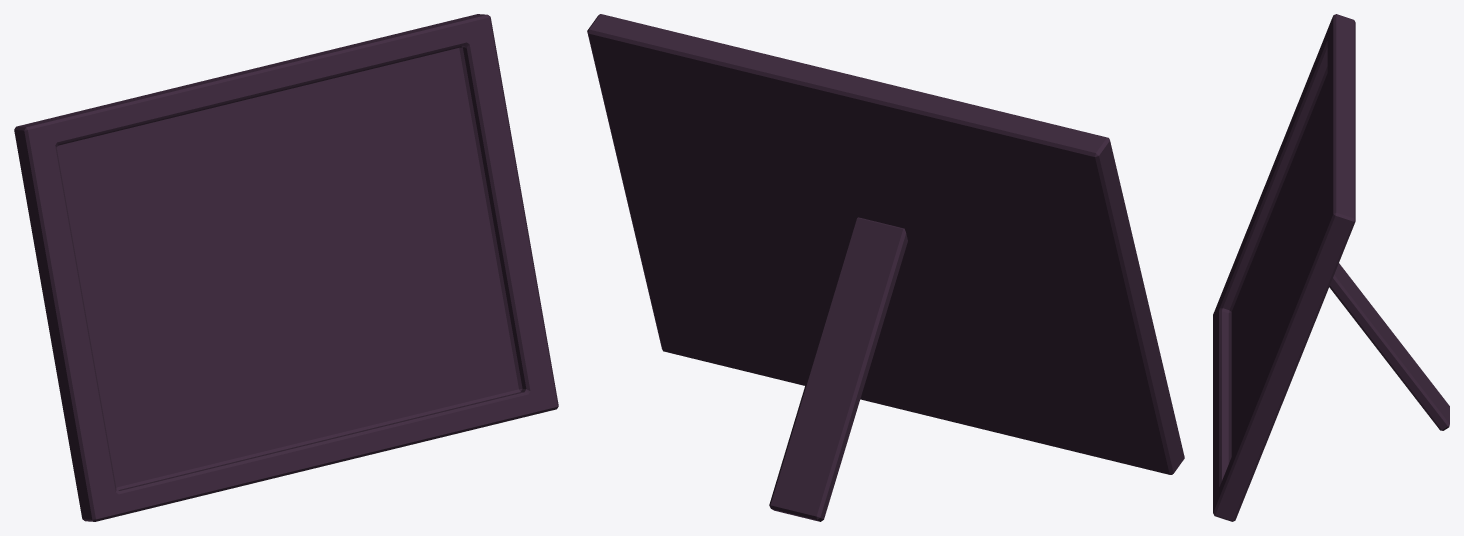
The model's file is PictureFrameDesk.fbx.
The picture shows the model from 3 angles, left to right: view 1: azimuth 30°, elevation 25°; view 2: azimuth 150°, elevation 25°; view 3: azimuth 270°, elevation 25°; orthographic projection. The views are drawn at different scales.
Visible parts, largest first — view 1: Picture Frame 001; view 2: Picture Frame 001; view 3: Picture Frame 001.
Part boxes in pixels (bbox=[...]): Picture Frame 001: bbox=[14, 14, 558, 521]; Picture Frame 001: bbox=[587, 14, 1184, 521]; Picture Frame 001: bbox=[1213, 14, 1449, 521].
Size of the model in its own units: 20 by 14.53 by 9.97.
